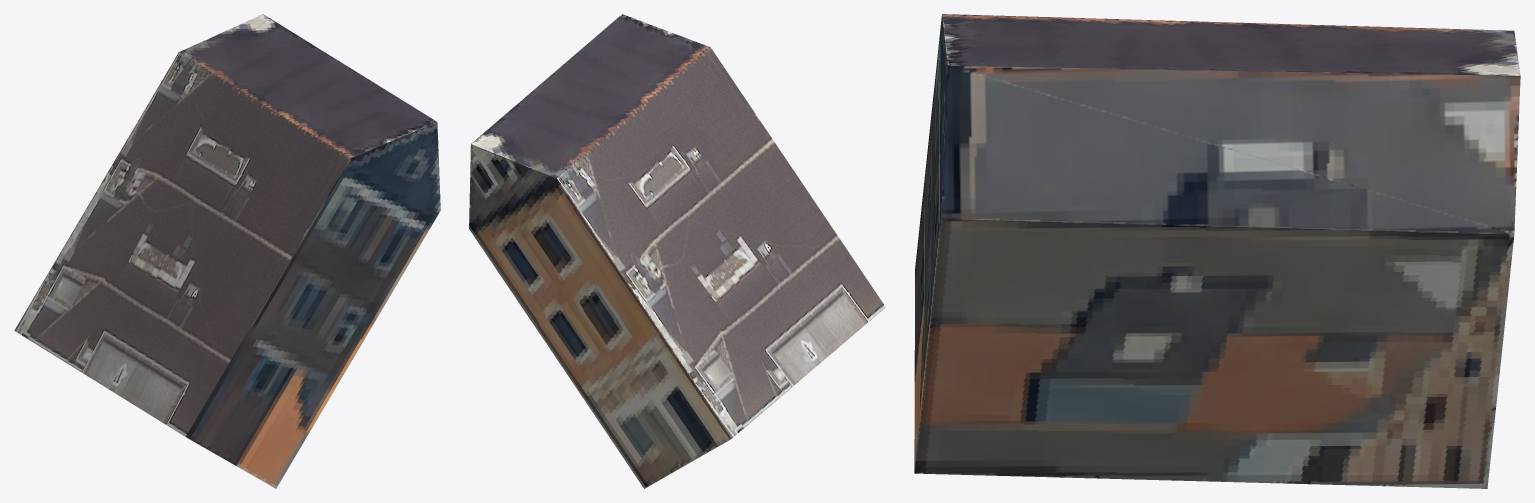
3 renders of one model, left to right at view 1: azimuth 30°, elevation 25°; view 2: azimuth 150°, elevation 25°; view 3: azimuth 270°, elevation 25°, orthographic. The views are drawn at different scales.
Parts seen in each view (by area): view 1: BAG_0599100000688737 (×2); view 2: BAG_0599100000688737 (×2); view 3: BAG_0599100000688737 (×2).
Part boxes in pixels (box(x1,y1,x2,y2)): BAG_0599100000688737 (×2): box(14, 14, 440, 488); BAG_0599100000688737 (×2): box(469, 14, 885, 488); BAG_0599100000688737 (×2): box(914, 14, 1520, 488).
Bounding box in the file's own units: 11.32 × 13.29 × 12.72.
Materials: 1 (1 with a texture image).
